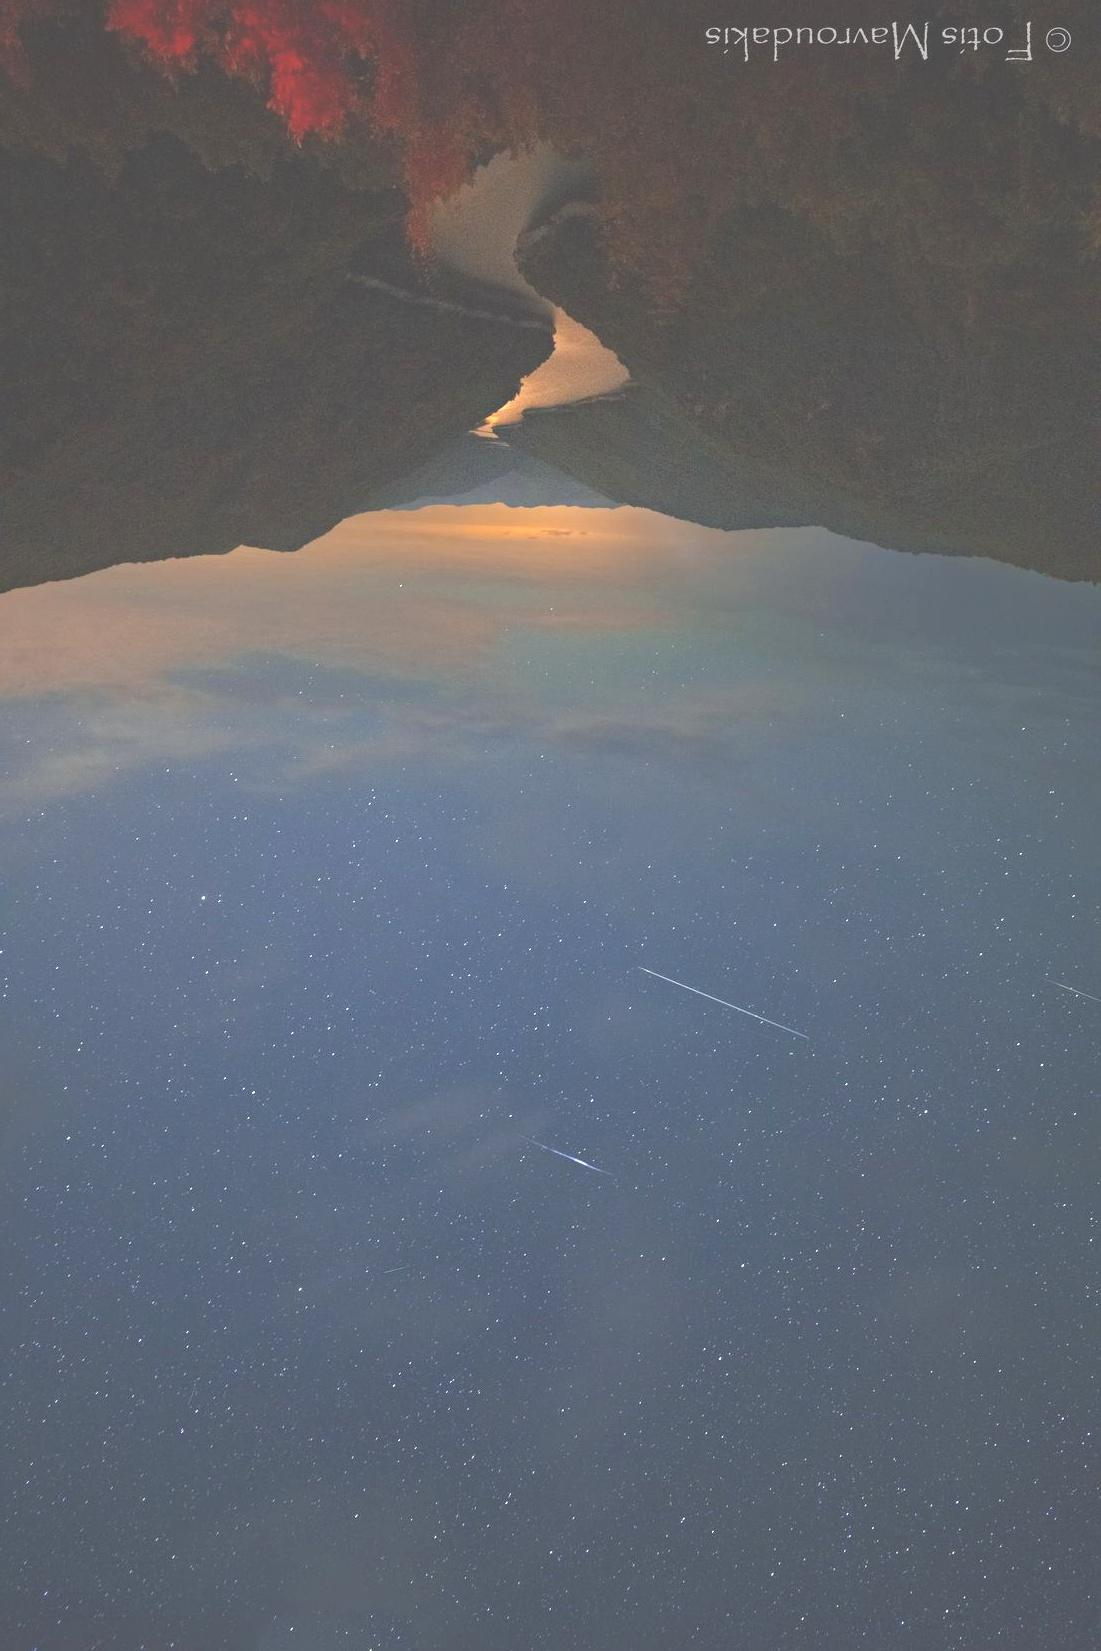meteorite: (622, 939, 810, 1045), (503, 1110, 618, 1185), (1009, 956, 1101, 1016)
